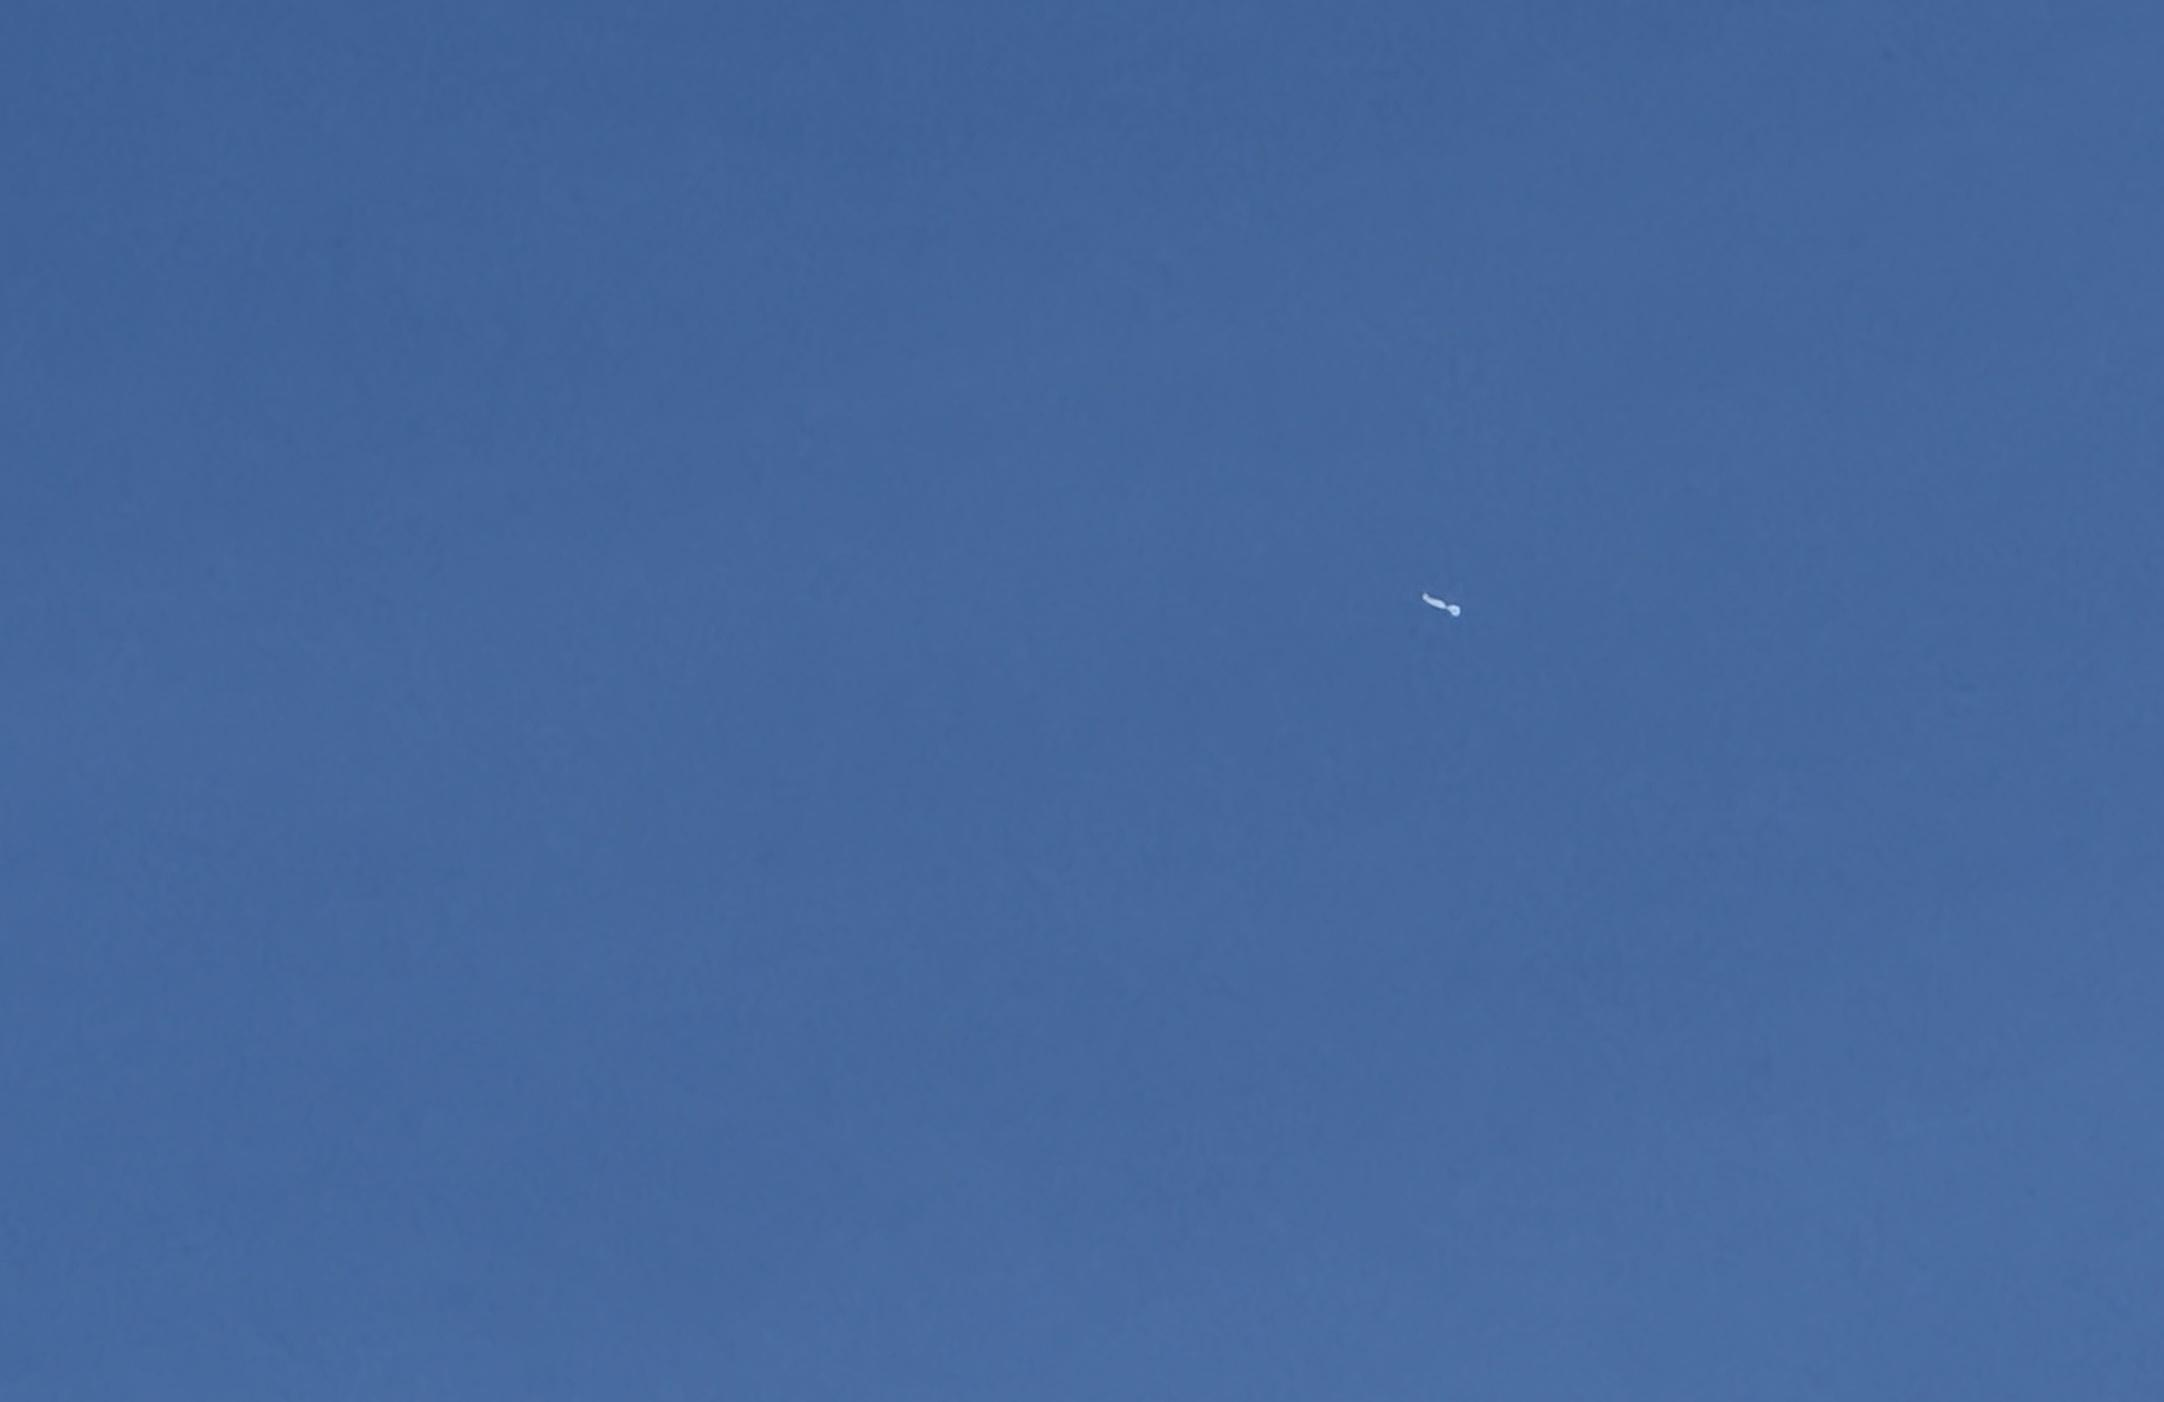Plane: (1394, 561, 1503, 651)
